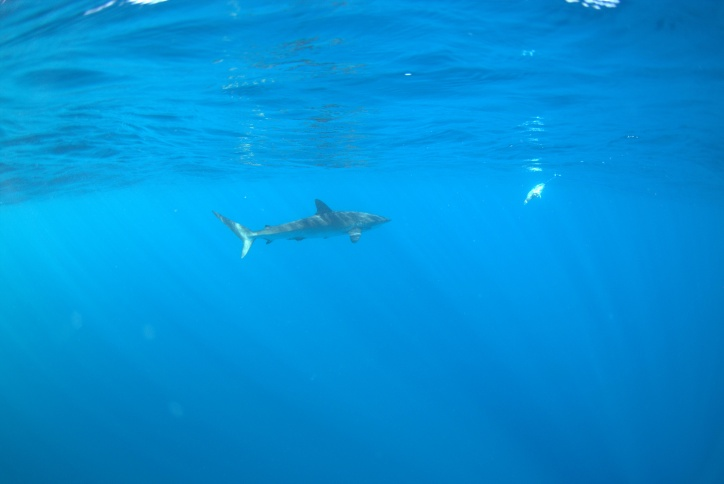Sedoso: (197, 195, 408, 259)
